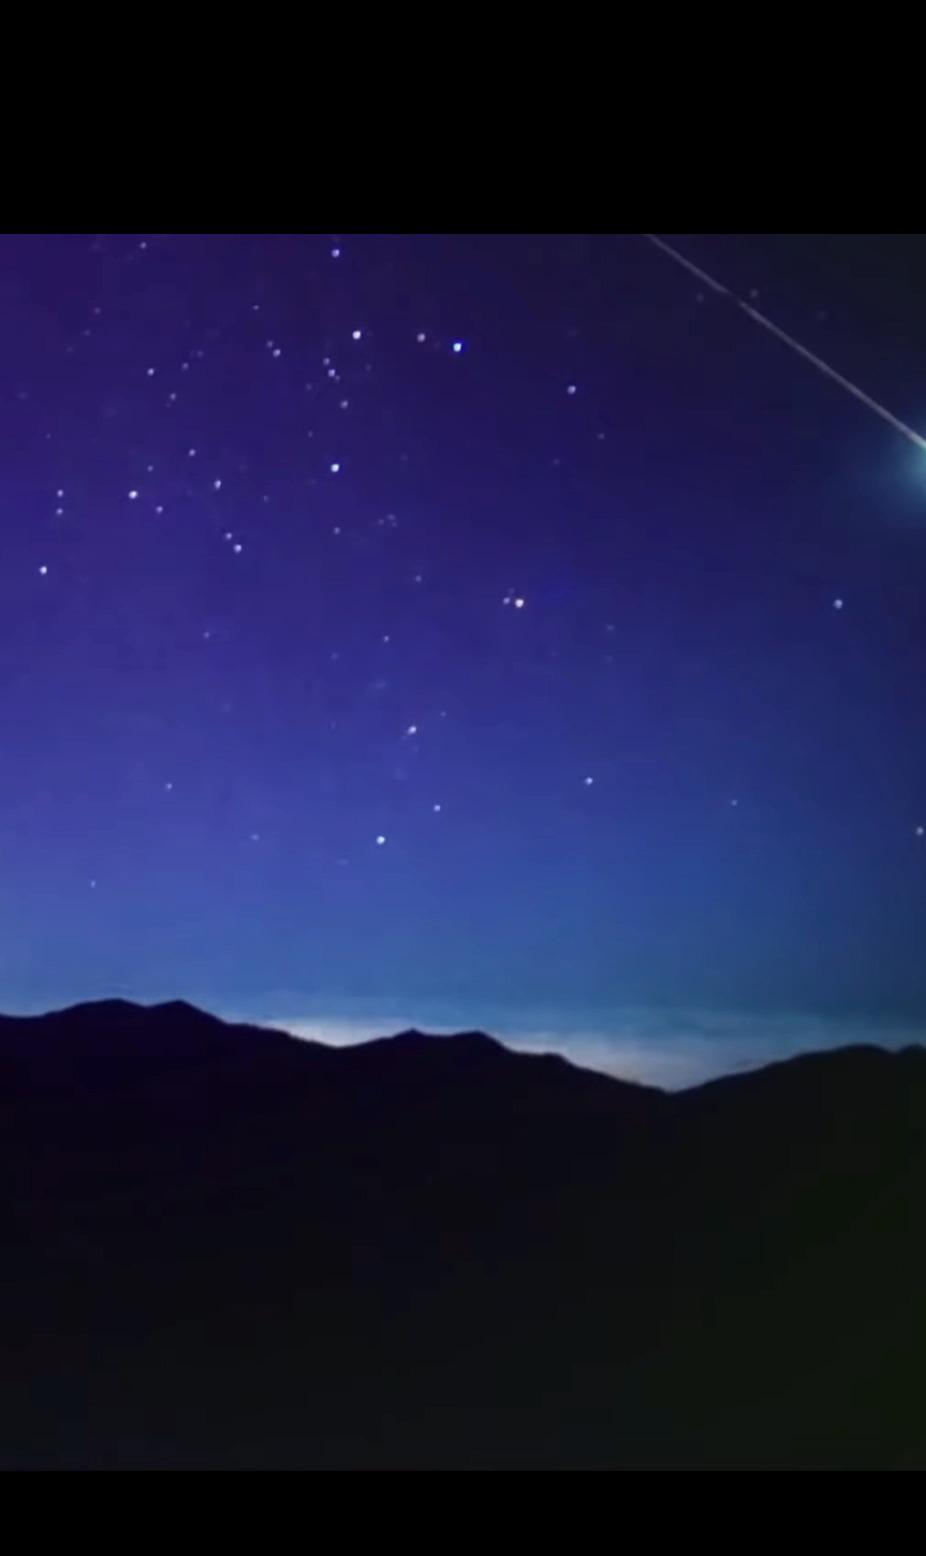meteorite: (521, 230, 925, 471)
